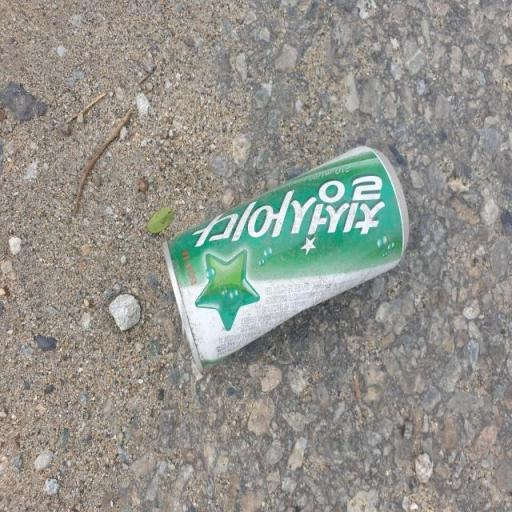metal: (136, 92, 433, 387)
